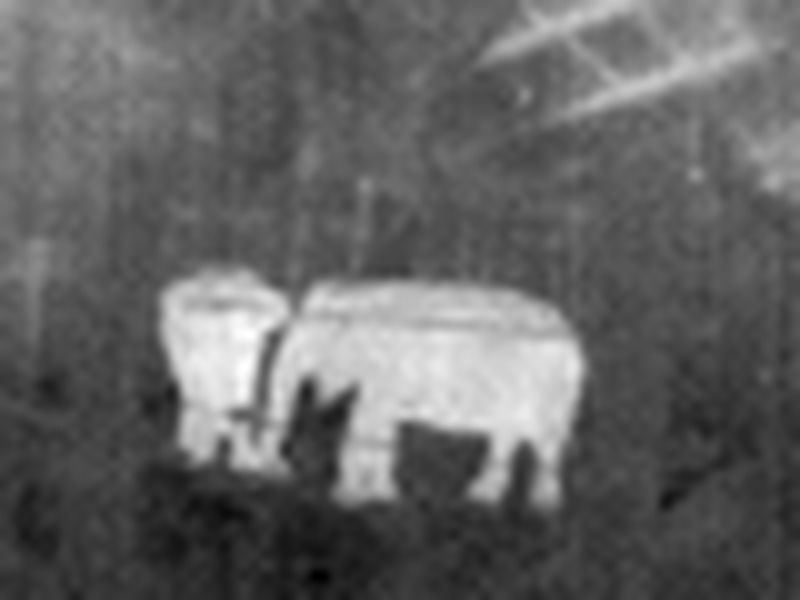elephant: (165, 271, 577, 520)
